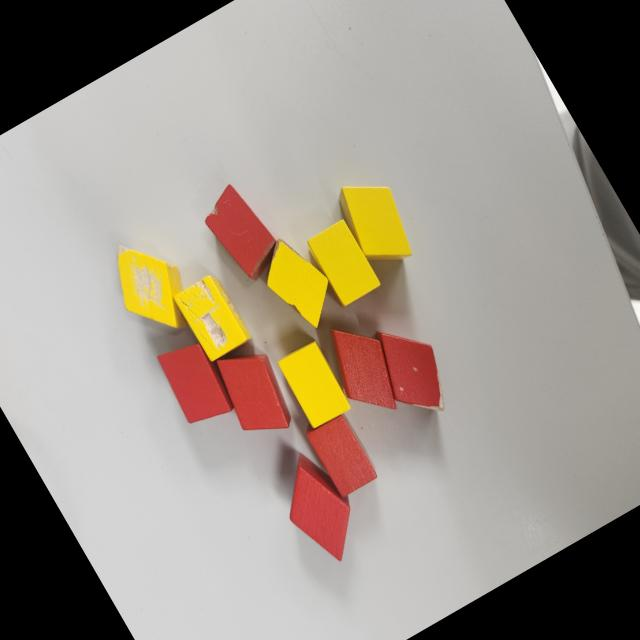broken: (98, 226, 206, 350), (361, 310, 464, 430), (250, 227, 346, 340), (193, 176, 288, 288), (172, 271, 255, 365)
red: (263, 442, 376, 576), (313, 308, 417, 431), (205, 334, 306, 452), (150, 330, 240, 436), (299, 403, 383, 502)
yellow: (328, 166, 426, 279), (272, 335, 357, 435), (302, 214, 386, 312)
